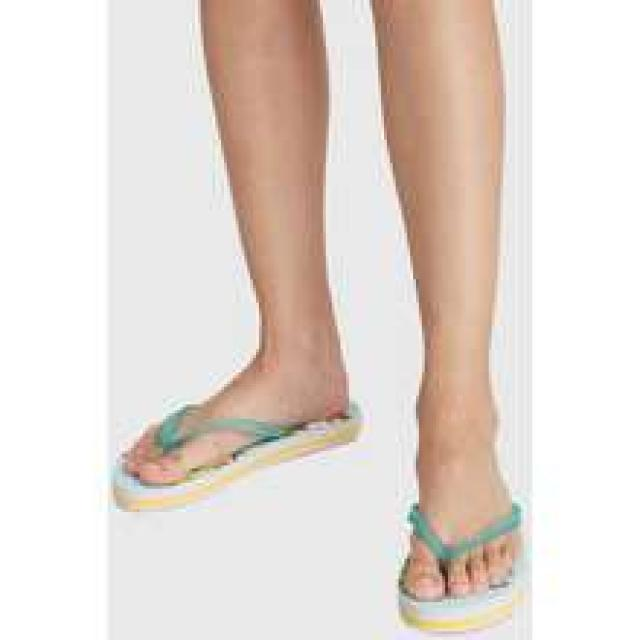Sandals: (112, 338, 534, 640)
